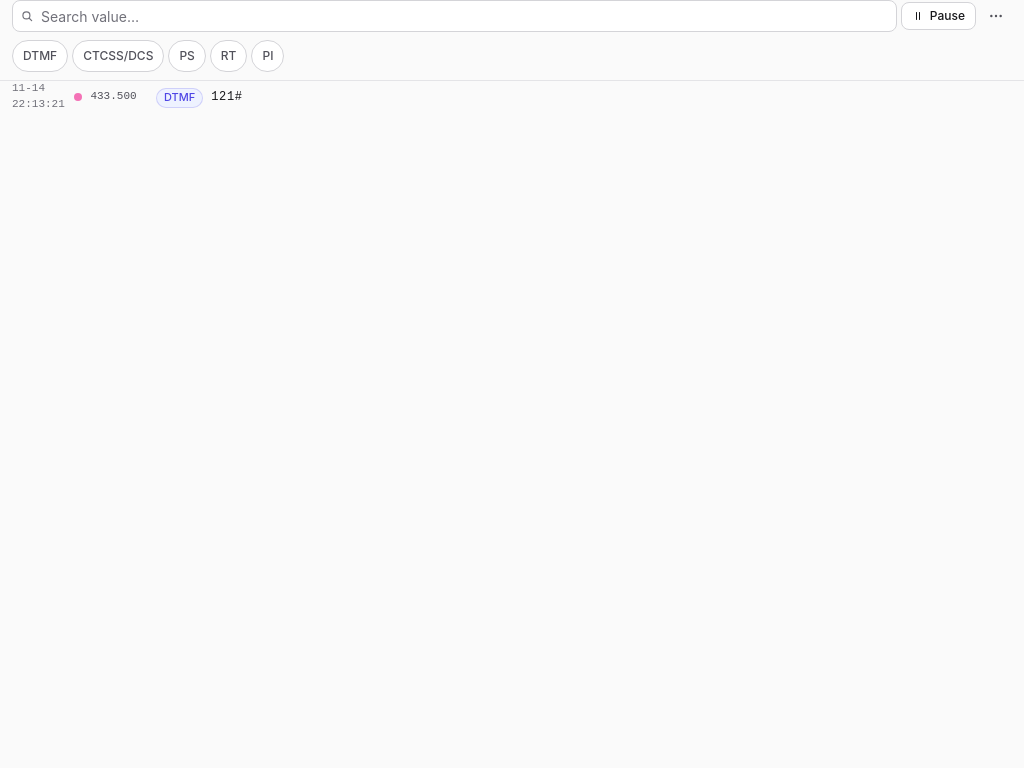
clearing asks first, then deletes the history
Click the button named "More log actions": [996, 16] box [980,0,1012,32]
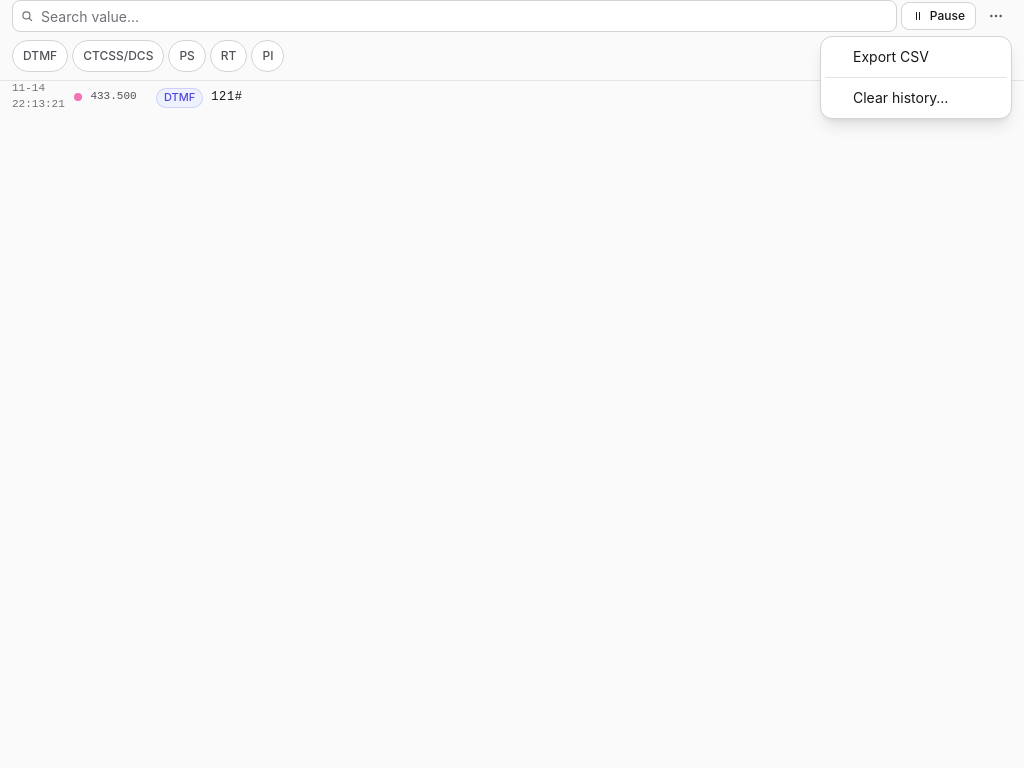
Click the menu item "Clear history…": [916, 98] box [825,82,1007,114]
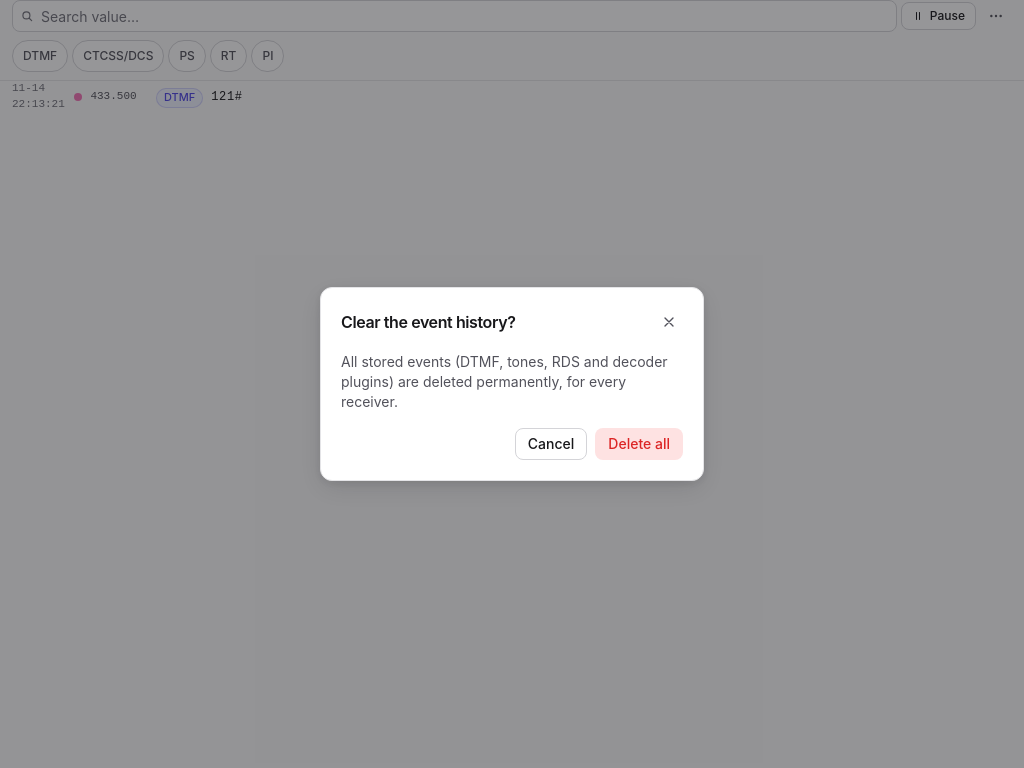
Click the button "Delete all": [639, 444] box [595,428,683,460]
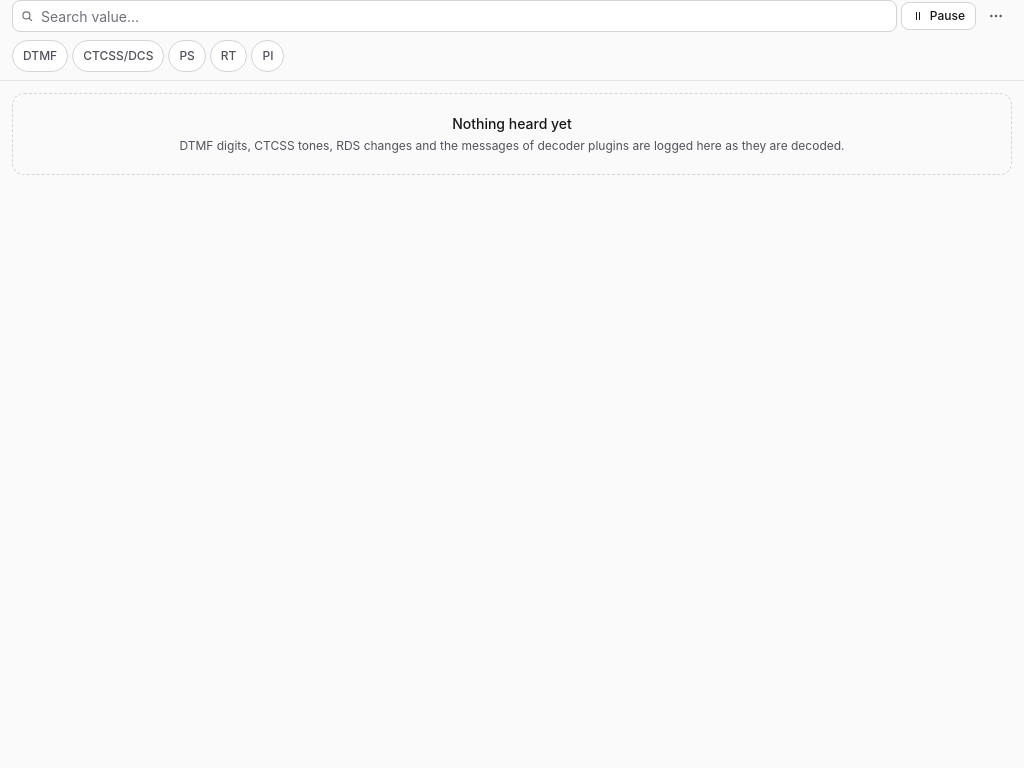
Check: the text "Nothing heard yet" is shown, box [452,114,572,134]
